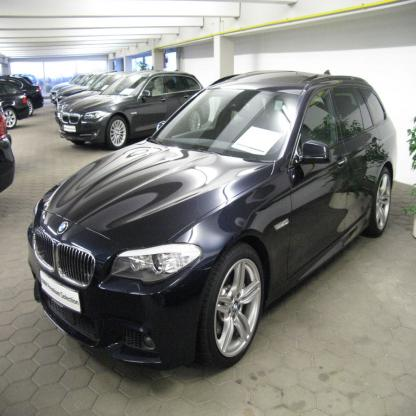Car: (28, 72, 404, 376), (62, 71, 212, 150), (50, 70, 135, 126), (1, 78, 27, 131), (13, 74, 43, 116), (1, 105, 15, 191), (23, 72, 40, 86)
